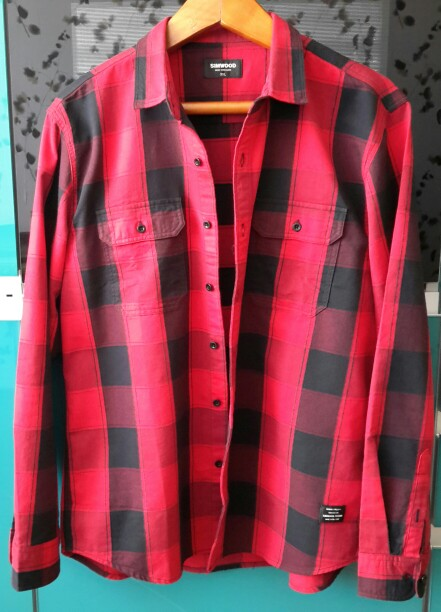shirts: (11, 20, 436, 596)
